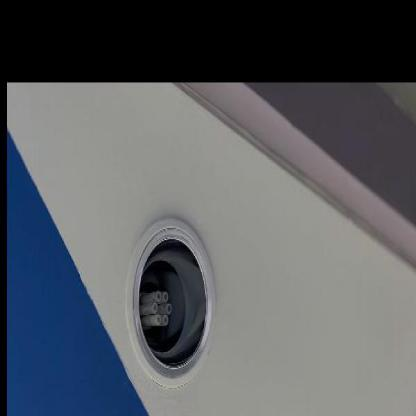light_off: (118, 177, 225, 400)
